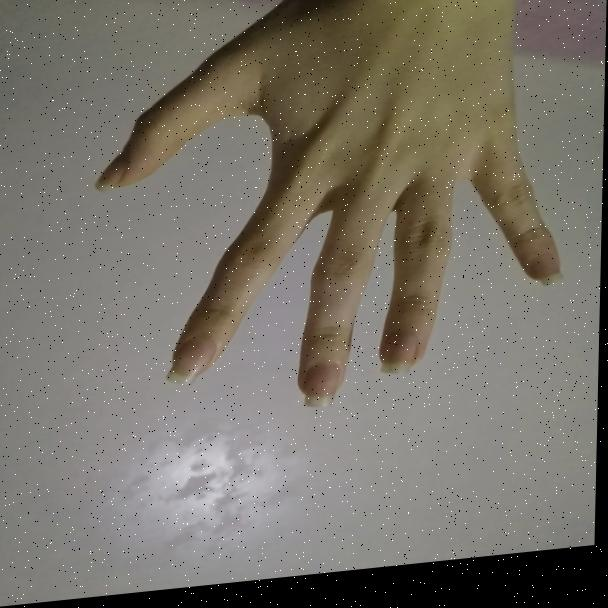five: (81, 0, 571, 433)
